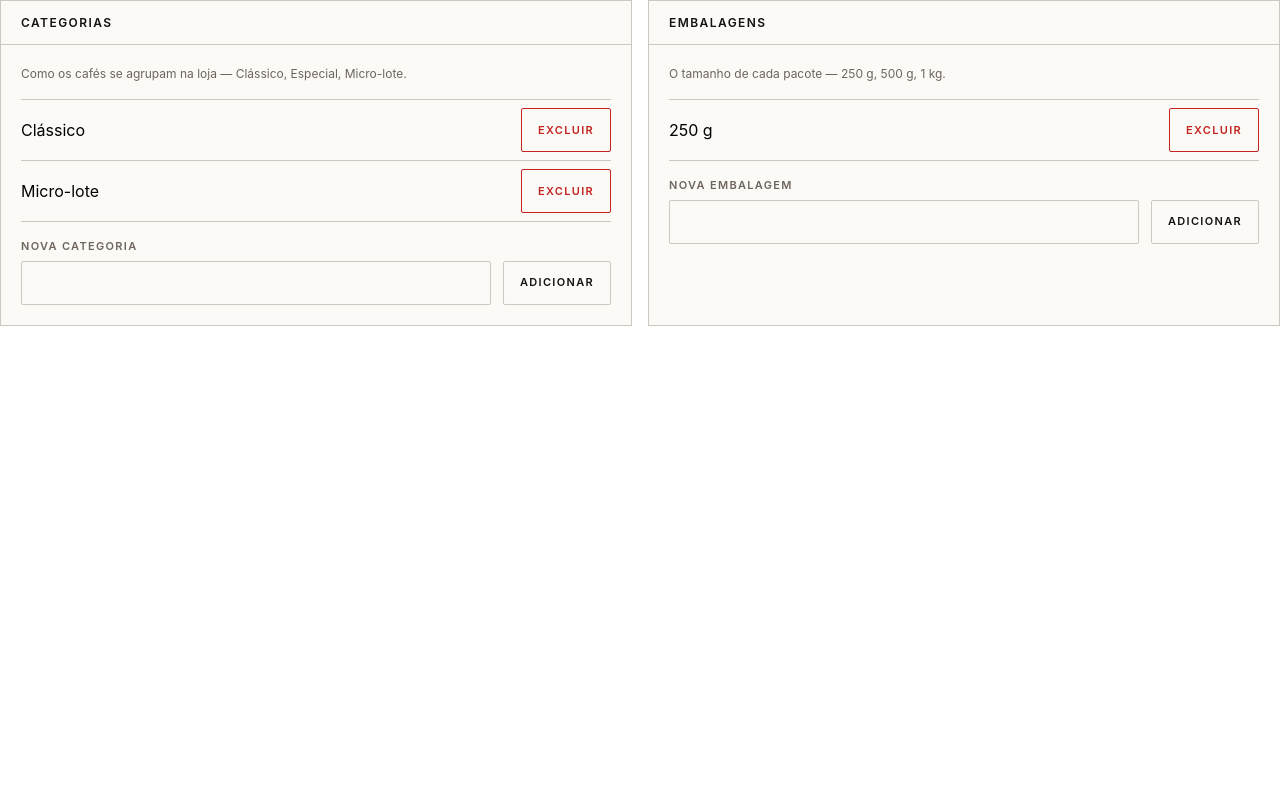
Scenario: excluir — R11/R12 › a confirmação nomeia a OPÇÃO e a consequência real
The image size is (1280, 800).
Step 1. Click the 1st button "Excluir" → (566, 130), box [521,108,611,152]
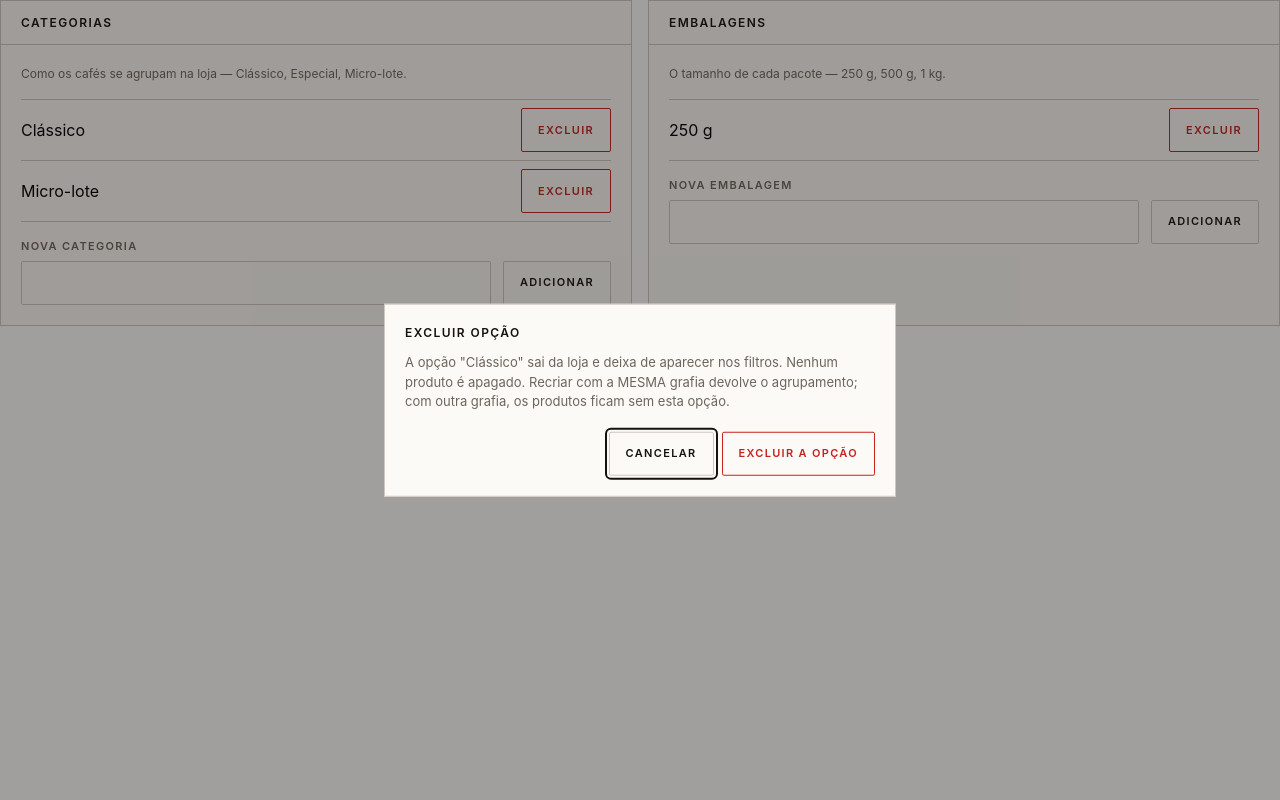
Now the text "A opção \"Clássico\" sai da loja" shows "Nenhum produto é apagado", box [405,354,858,409]
Now the text "A opção \"Clássico\" sai da loja" shows "MESMA grafia", box [405,354,858,409]
